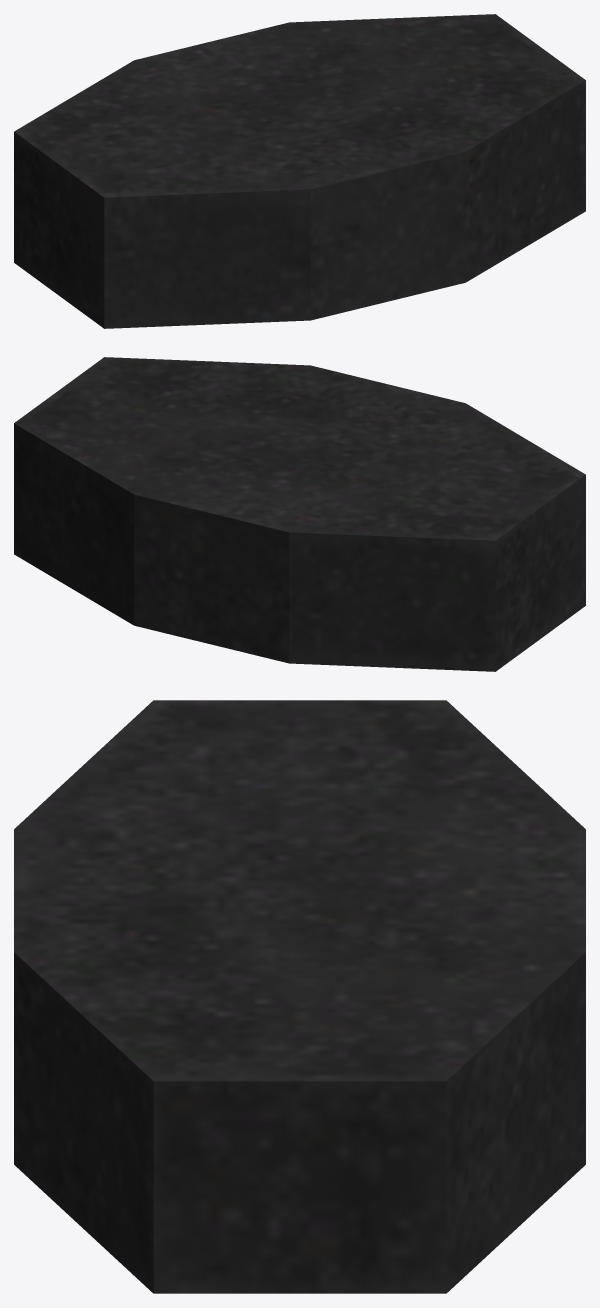
The model's file is wm_isengard_berserker_sword_a01_guard.fbx.
3 renders of one model, top to bottom at view 1: azimuth 30°, elevation 25°; view 2: azimuth 150°, elevation 25°; view 3: azimuth 270°, elevation 25°, orthographic. The views are drawn at different scales.
Visible parts, largest first — view 1: wm_isengard_berserker_sword_a01_guard; view 2: wm_isengard_berserker_sword_a01_guard; view 3: wm_isengard_berserker_sword_a01_guard.
Boxes of the visible parts, left/top/right/bottom form: wm_isengard_berserker_sword_a01_guard: left=14, top=14, right=585, bottom=328; wm_isengard_berserker_sword_a01_guard: left=14, top=357, right=585, bottom=671; wm_isengard_berserker_sword_a01_guard: left=14, top=700, right=585, bottom=1293.
Bounding box in the file's own units: 0.1054 × 0.0669 × 0.0274.
1 material, 1 textured.
